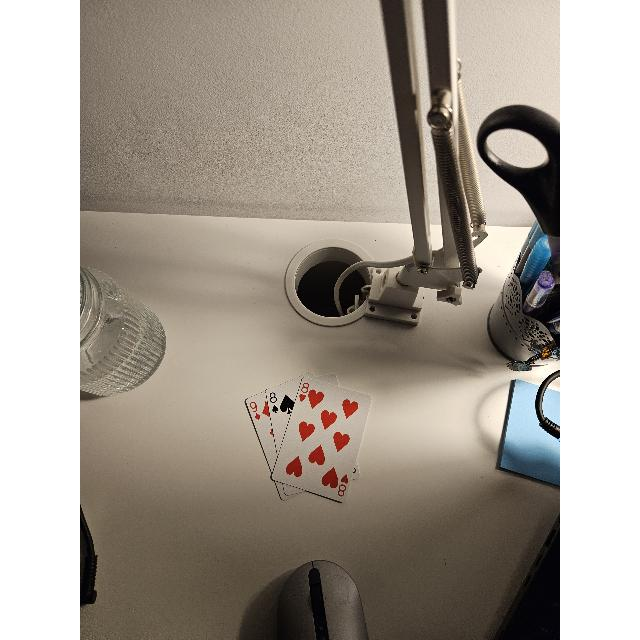8H: (336, 473, 349, 497), (300, 382, 312, 404)
8S: (269, 392, 281, 414)
9D: (248, 398, 262, 420)
